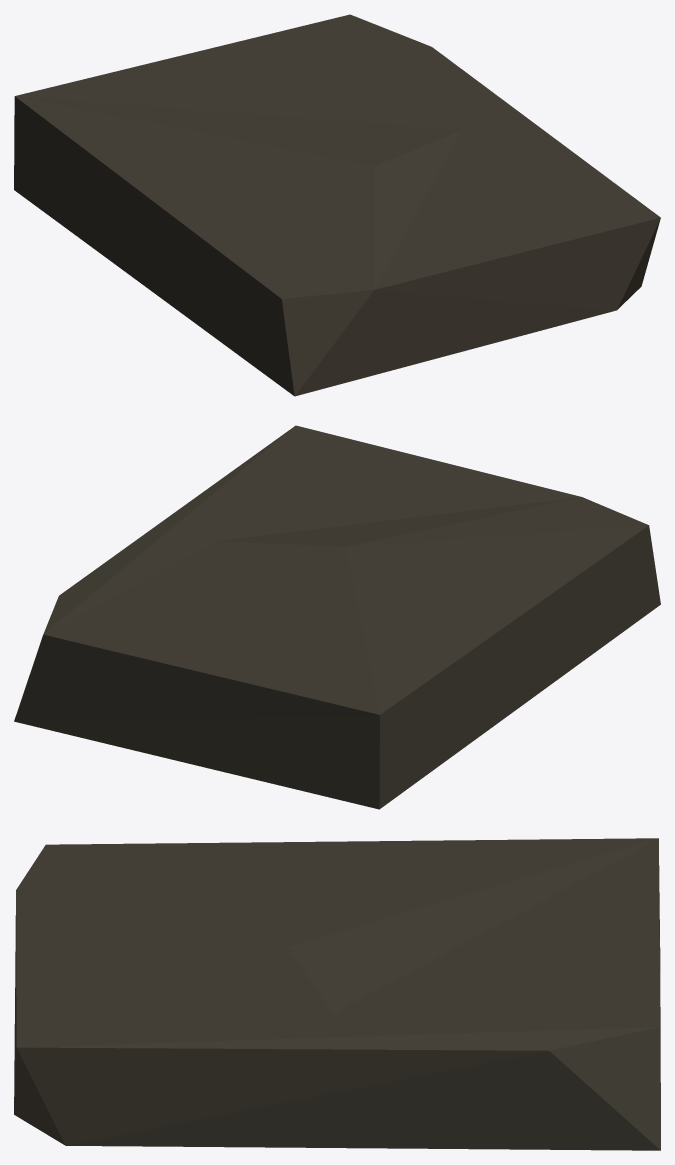
File: Stairs_Single_3.fbx
3 renders of one model, top to bottom at view 1: azimuth 30°, elevation 25°; view 2: azimuth 150°, elevation 25°; view 3: azimuth 270°, elevation 25°, orthographic. The views are drawn at different scales.
Parts seen in each view (by area): view 1: Group41442; view 2: Group41442; view 3: Group41442.
Boxes of the visible parts, left/top/right/bottom form: Group41442: left=14, top=14, right=660, bottom=396; Group41442: left=14, top=425, right=660, bottom=809; Group41442: left=14, top=838, right=660, bottom=1150.
Size of the model in its own units: 1.7 by 0.4497 by 2.26.
